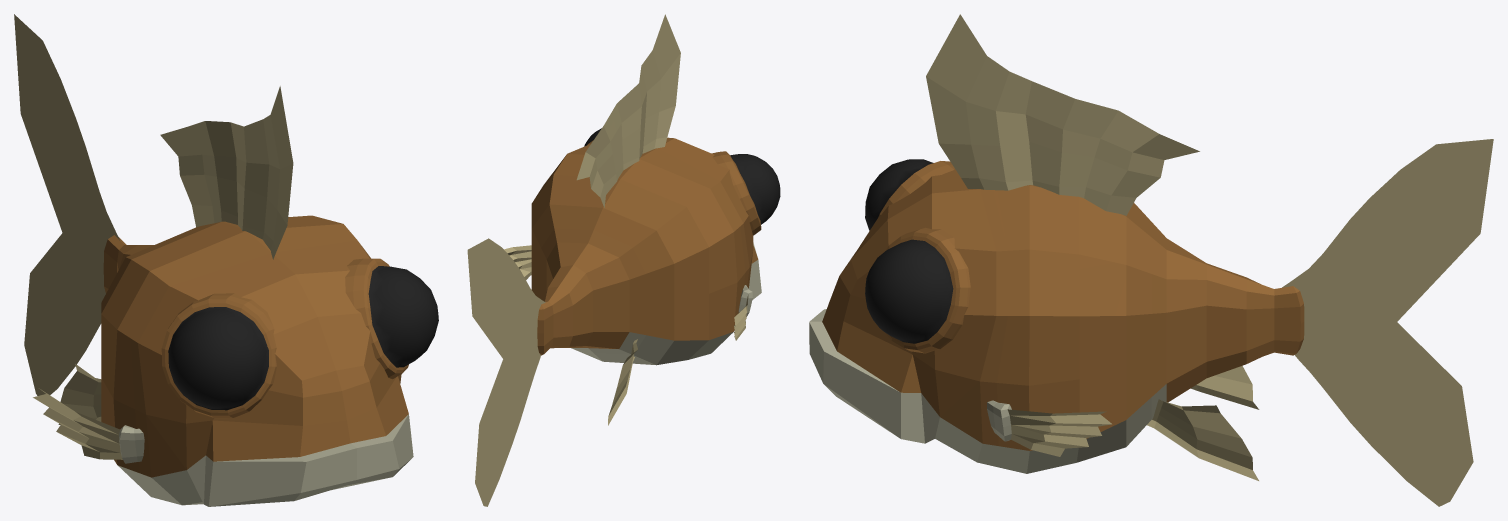
The model's file is q_goldfish.fbx.
The picture shows the model from 3 angles, left to right: view 1: azimuth 30°, elevation 25°; view 2: azimuth 150°, elevation 25°; view 3: azimuth 270°, elevation 25°; orthographic projection. The views are drawn at different scales.
Parts seen in each view (by area): view 1: q_goldfish; view 2: q_goldfish; view 3: q_goldfish.
Boxes of the visible parts, left/top/right/bottom form: q_goldfish: left=14, top=14, right=438, bottom=506; q_goldfish: left=467, top=14, right=780, bottom=506; q_goldfish: left=809, top=14, right=1493, bottom=506.
Size of the model in its own units: 0.5811 by 0.7938 by 1.
